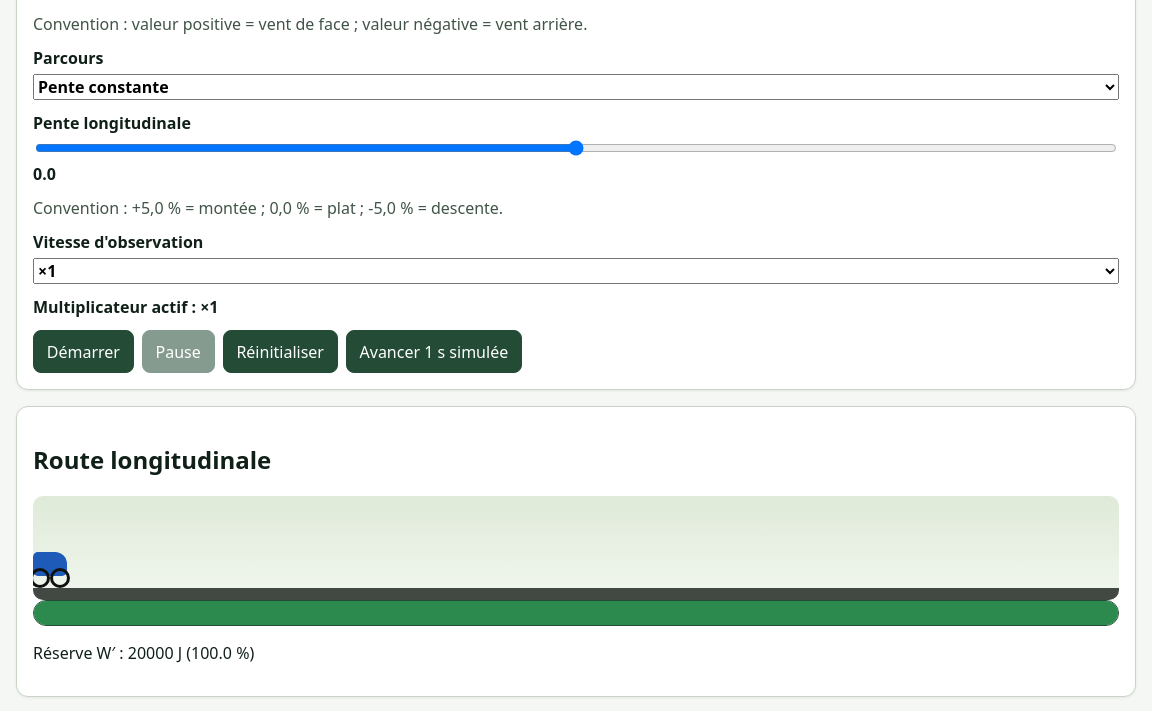
Test case: App › starts and pauses
(page scrolled)
Step 1. Click the button "Démarrer" → click(83, 352), box [33,330,134,373]
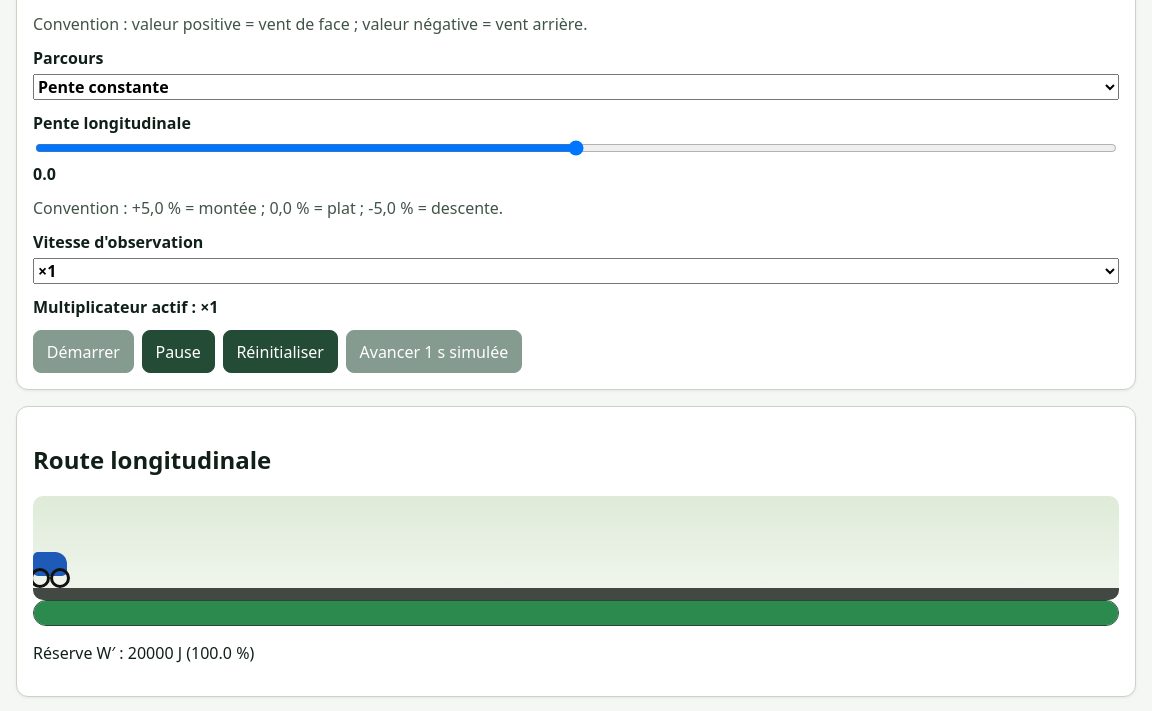
Check: the button "Démarrer" is disabled, box [33,330,134,373]
Step 2. Click the button "Pause" → click(178, 352), box [142,330,215,373]
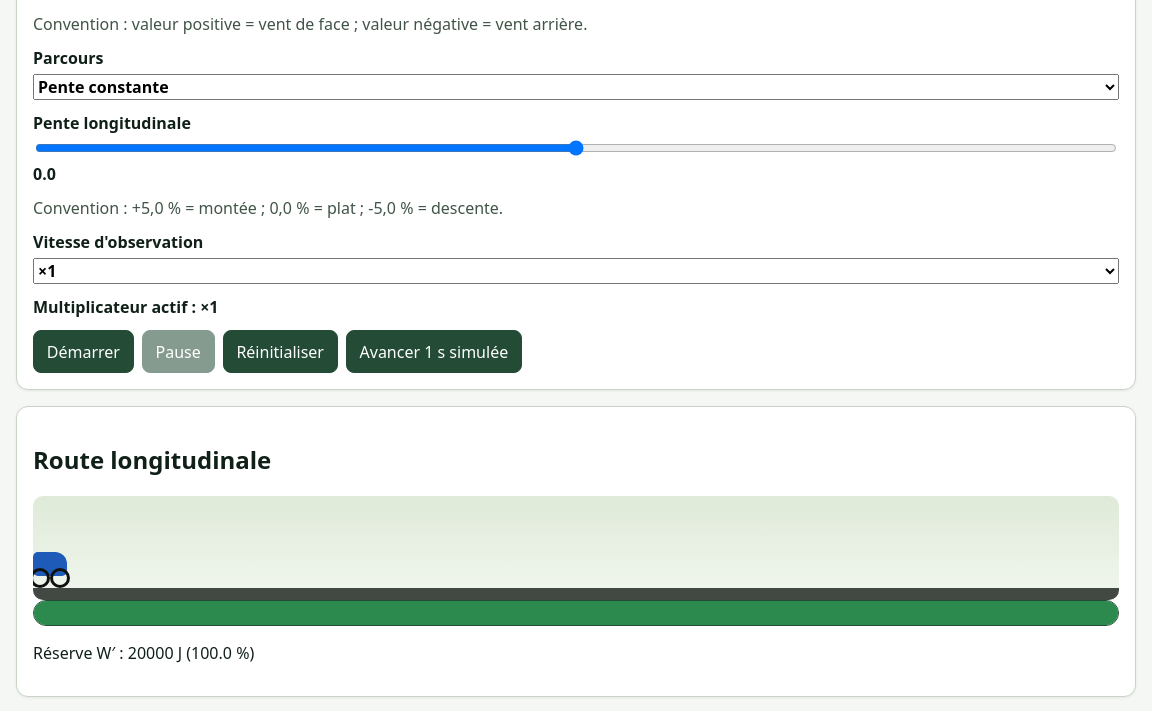
Check: the button "Démarrer" is enabled, box [33,330,134,373]
